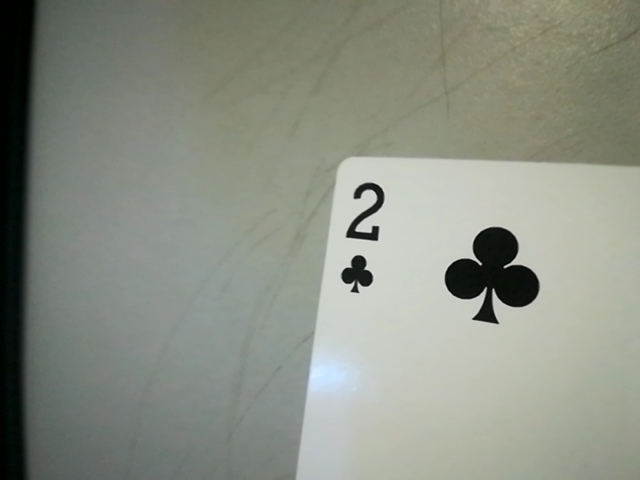mh 2: (328, 171, 398, 303)
